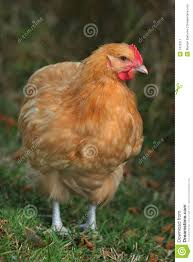buff: (32, 38, 149, 176)
